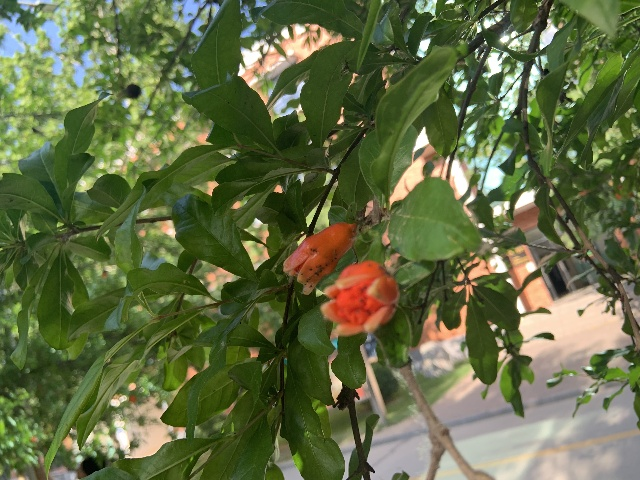flower: (320, 261, 399, 337), (283, 221, 356, 294)
